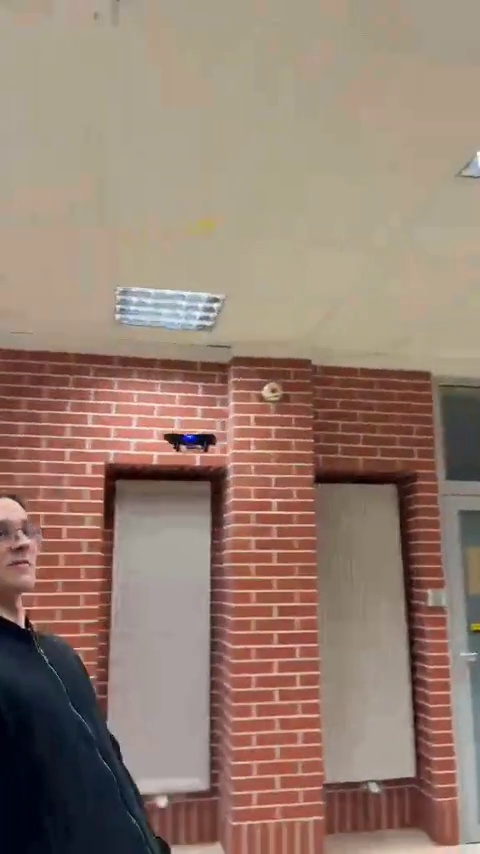drone: (165, 430, 219, 452)
no vest: (0, 485, 165, 854)
